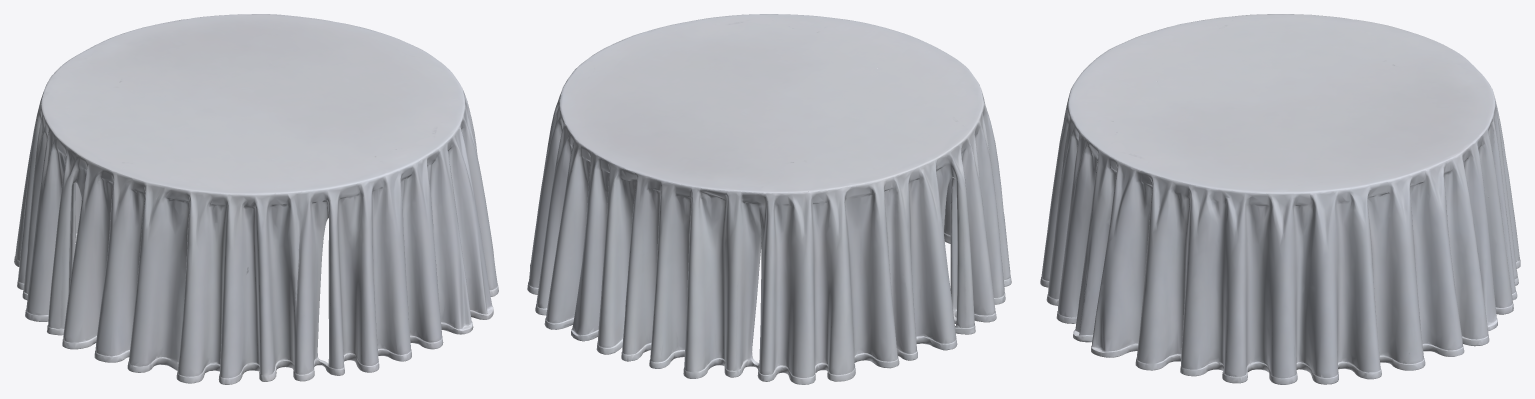
The picture shows the model from 3 angles, left to right: view 1: azimuth 30°, elevation 25°; view 2: azimuth 150°, elevation 25°; view 3: azimuth 270°, elevation 25°; orthographic projection.
Parts seen in each view (by area): view 1: model; view 2: model; view 3: model.
Boxes of the visible parts, left/top/right/bottom form: model: left=14, top=14, right=498, bottom=384; model: left=527, top=14, right=1011, bottom=384; model: left=1040, top=14, right=1520, bottom=384.
Size of the model in its own units: 1.83 by 0.76 by 1.83.
1 material, 1 textured.
